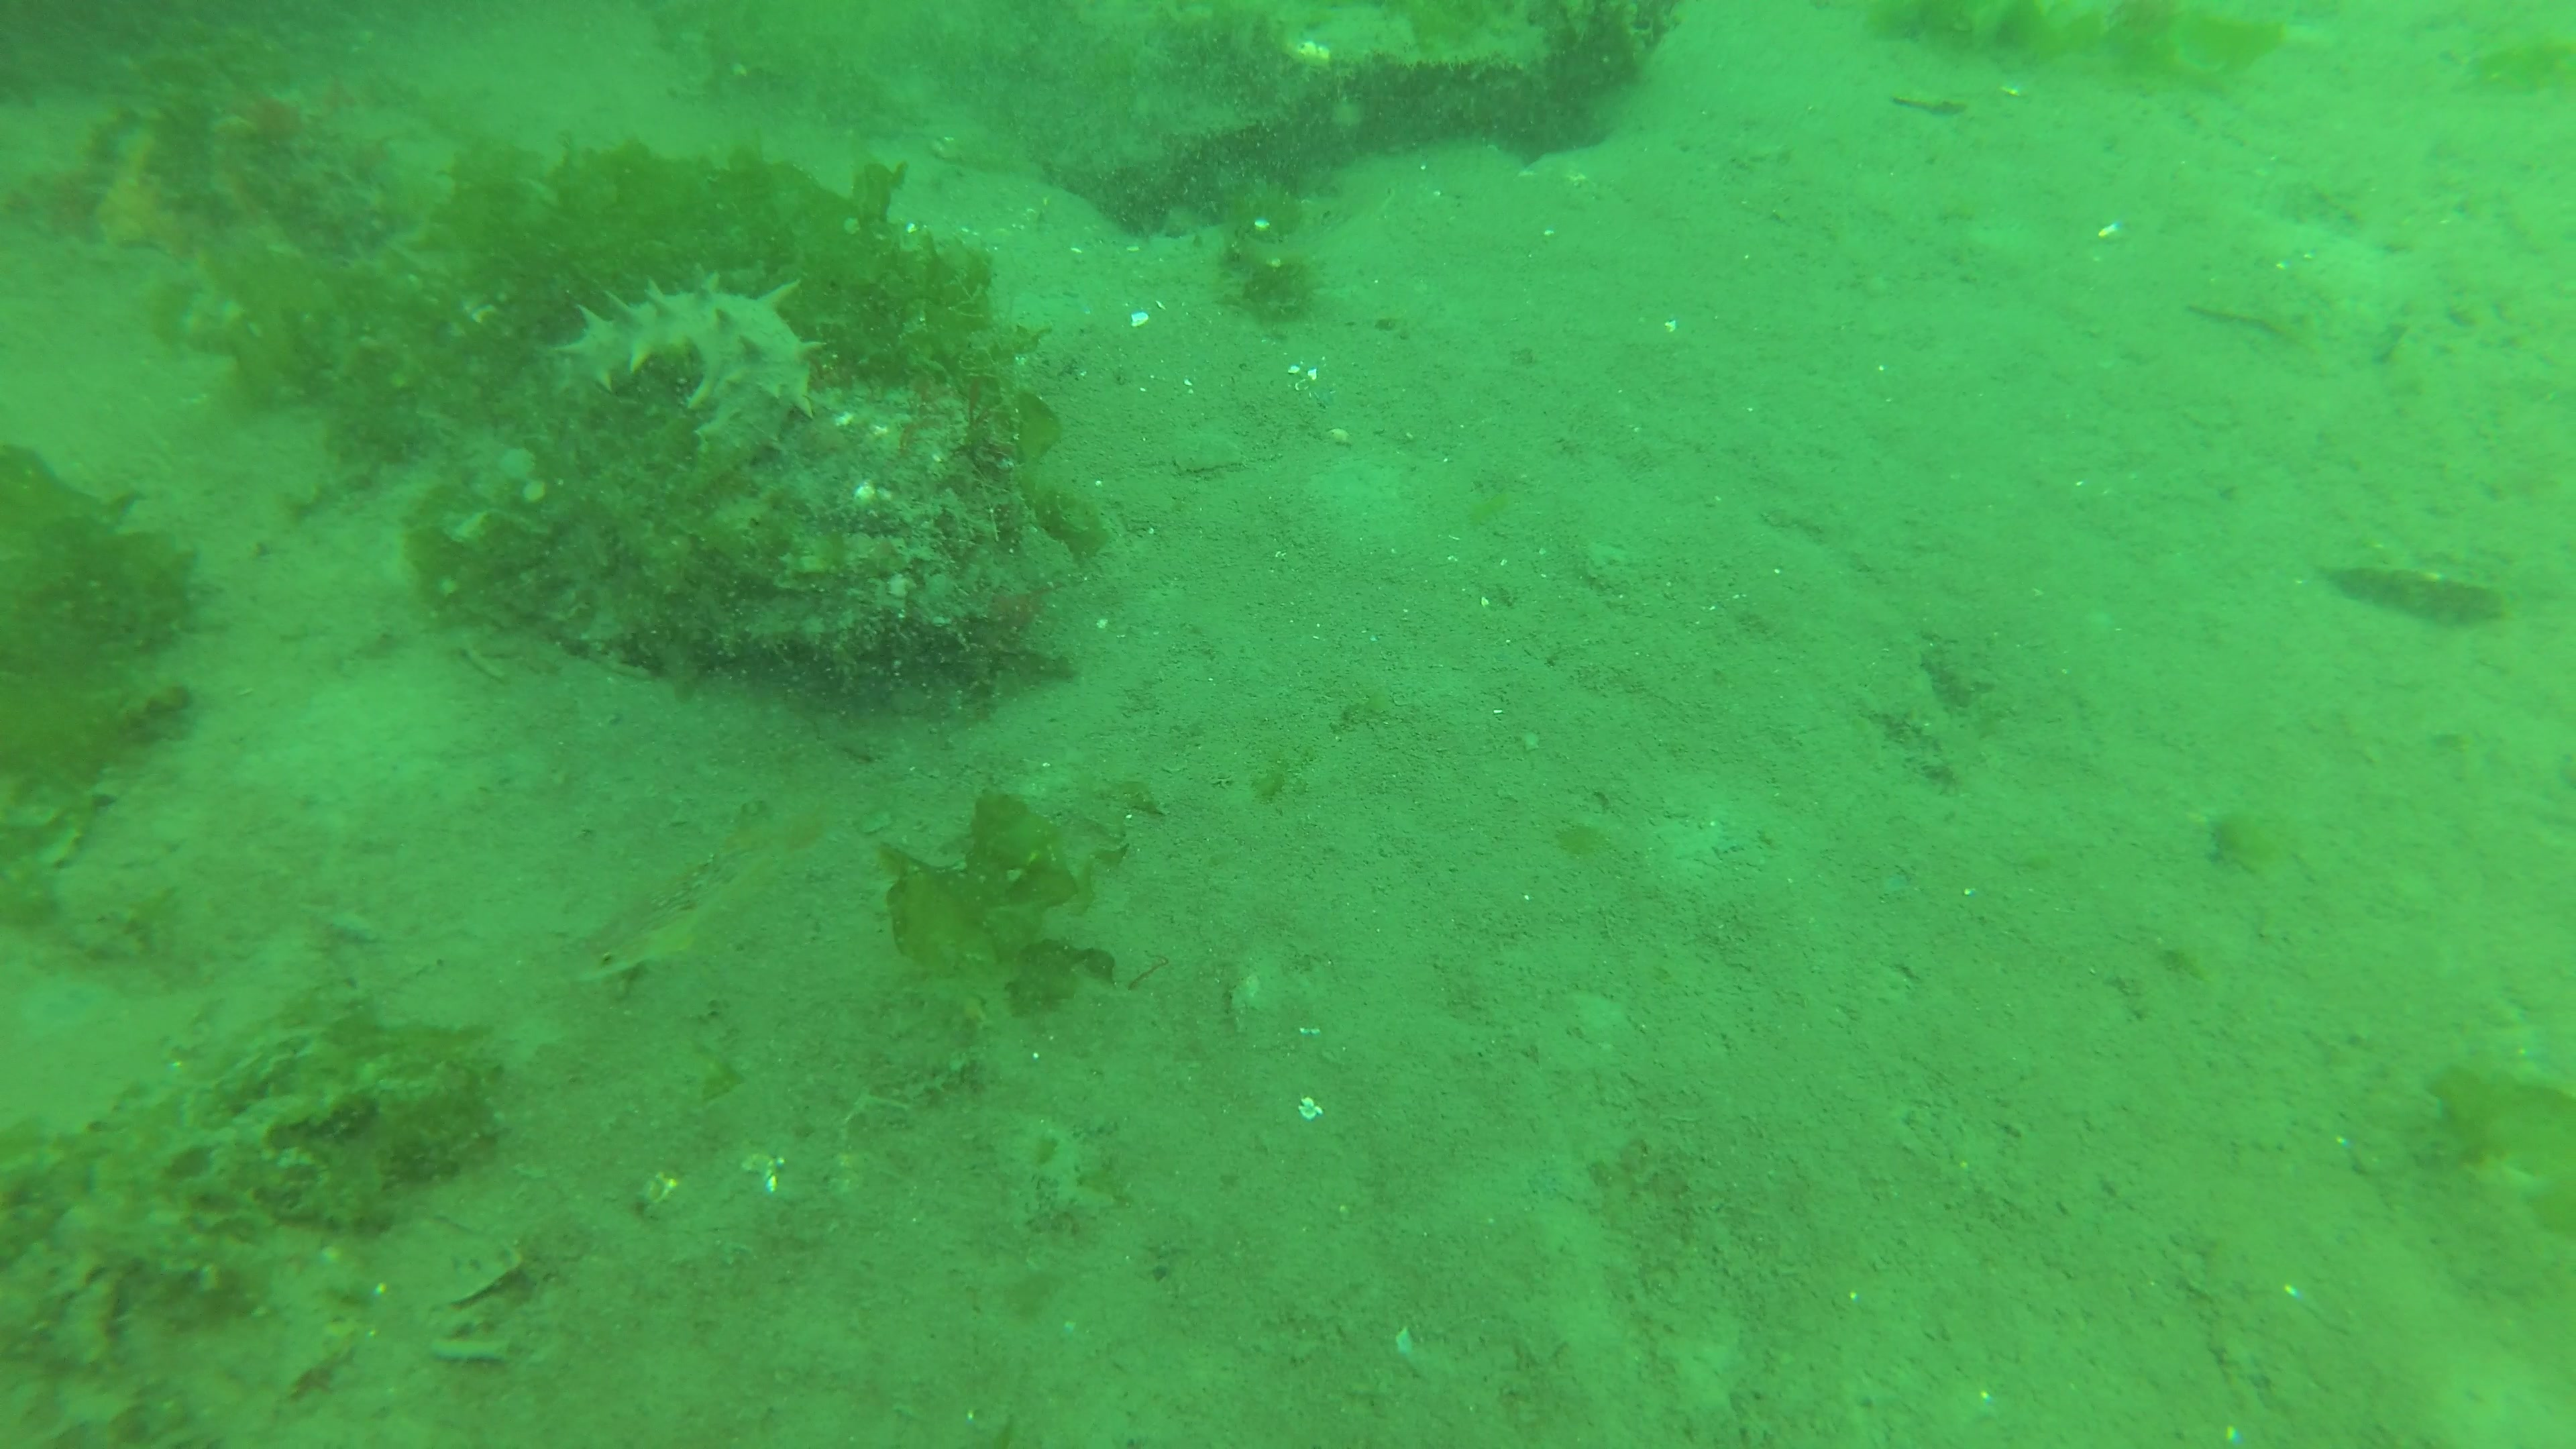holothurian: (552, 258, 824, 472)
scallop: (2327, 559, 2493, 625), (1890, 88, 1966, 117)
